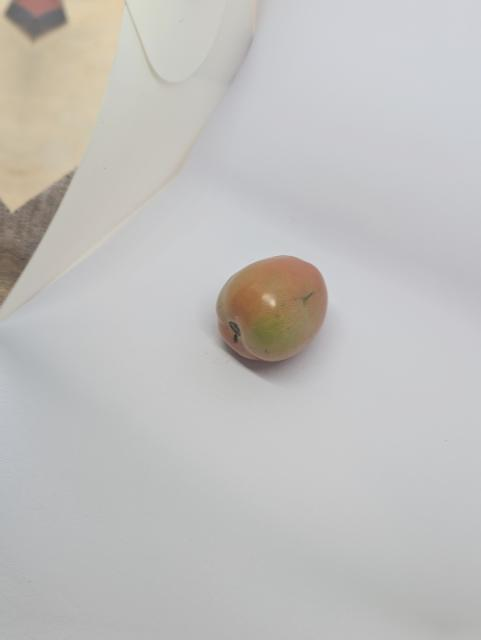turning: (208, 249, 345, 368)
